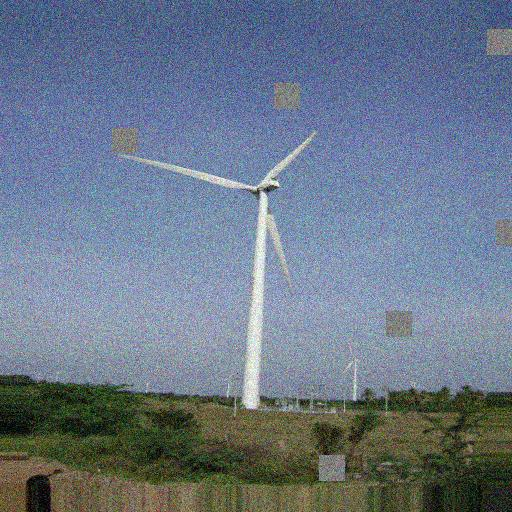wind turbine: (116, 127, 320, 398)
